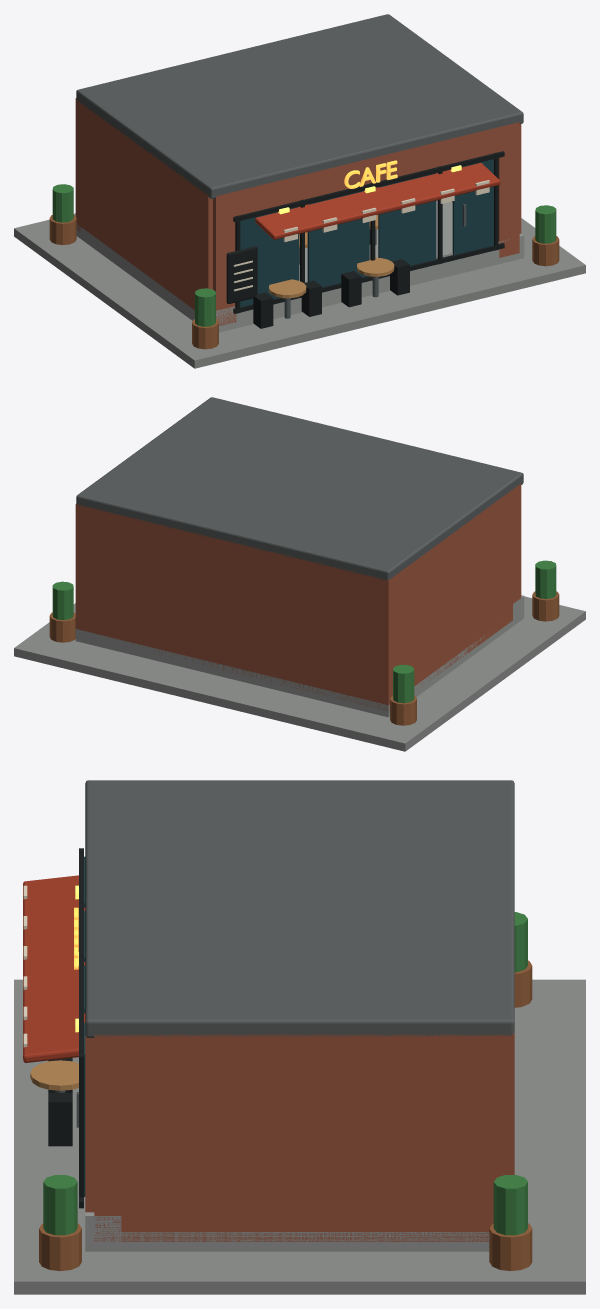
Rendered from CafeStage 8.glb.
3 renders of one model, top to bottom at view 1: azimuth 30°, elevation 25°; view 2: azimuth 150°, elevation 25°; view 3: azimuth 270°, elevation 25°, orthographic. The views are drawn at different scales.
Visible parts, largest first — view 1: FlatRoof.004, CafeWalls.004, TileBase_10x8.007, StorefrontGlass.003, FrontAwning.001, CafeFoundation.006, StorefrontFrames.003, MenuBoard.001, PatioChairs_0, PatioChairs_1, AwningStripes.001, Plant_1 (+8 smaller); view 2: CafeWalls.004, FlatRoof.004, TileBase_10x8.007, CafeFoundation.006, Plant_3, Plant_0, Plant_2, Planter_0, Planter_3, Planter_2; view 3: FlatRoof.004, CafeWalls.004, TileBase_10x8.007, FrontAwning.001, CafeFoundation.006, Plant_1, Plant_3, StorefrontFrames.003, Planter_3, Planter_1, PatioChairs_1, PatioTable_1 (+2 smaller).
Part boxes in pixels (<box>): FlatRoof.004: <box>76,14,523,198</box>; CafeWalls.004: <box>75,98,521,325</box>; TileBase_10x8.007: <box>14,213,585,368</box>; StorefrontGlass.003: <box>240,159,493,307</box>; FrontAwning.001: <box>255,163,500,239</box>; CafeFoundation.006: <box>76,200,524,332</box>; StorefrontFrames.003: <box>233,151,504,313</box>; MenuBoard.001: <box>226,246,257,303</box>; PatioChairs_0: <box>253,280,321,328</box>; PatioChairs_1: <box>341,259,409,307</box>; AwningStripes.001: <box>283,180,489,241</box>; Plant_1: <box>535,205,556,243</box>; CafeWalls.004: <box>75,483,521,710</box>; FlatRoof.004: <box>76,397,523,580</box>; TileBase_10x8.007: <box>14,596,585,751</box>; CafeFoundation.006: <box>75,595,524,717</box>; Plant_3: <box>52,581,73,620</box>; Plant_0: <box>535,560,556,598</box>; Plant_2: <box>393,664,414,703</box>; Planter_0: <box>532,591,559,621</box>; Planter_3: <box>49,612,75,642</box>; Planter_2: <box>390,695,416,725</box>; FlatRoof.004: <box>85,780,514,1037</box>; CafeWalls.004: <box>85,1033,514,1241</box>; TileBase_10x8.007: <box>14,979,585,1294</box>; FrontAwning.001: <box>23,875,85,1062</box>; CafeFoundation.006: <box>85,1212,489,1251</box>; Plant_1: <box>43,1175,77,1235</box>; Plant_3: <box>493,1175,527,1235</box>; StorefrontFrames.003: <box>79,848,83,1208</box>; Planter_3: <box>489,1223,532,1270</box>; Planter_1: <box>39,1223,81,1271</box>; PatioChairs_1: <box>48,1058,72,1146</box>; PatioTable_1: <box>30,1060,78,1090</box>.
Size of the model in its own units: 10 by 3.76 by 8.
